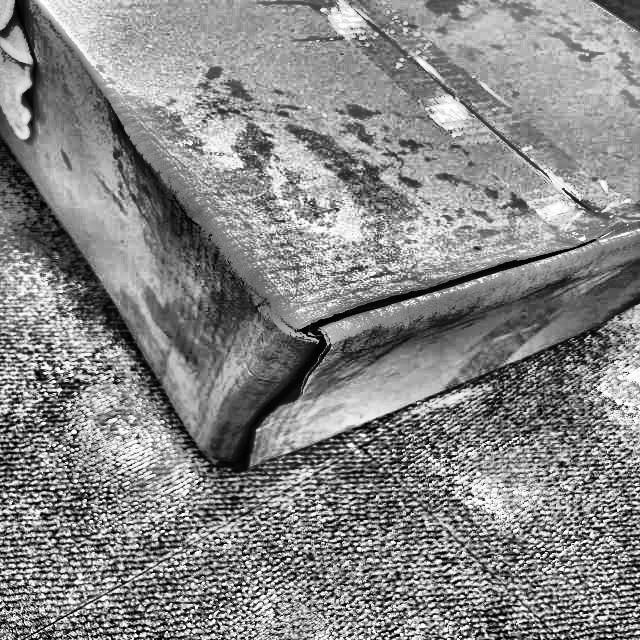box: (0, 0, 640, 472)
wet: (124, 127, 574, 460)
